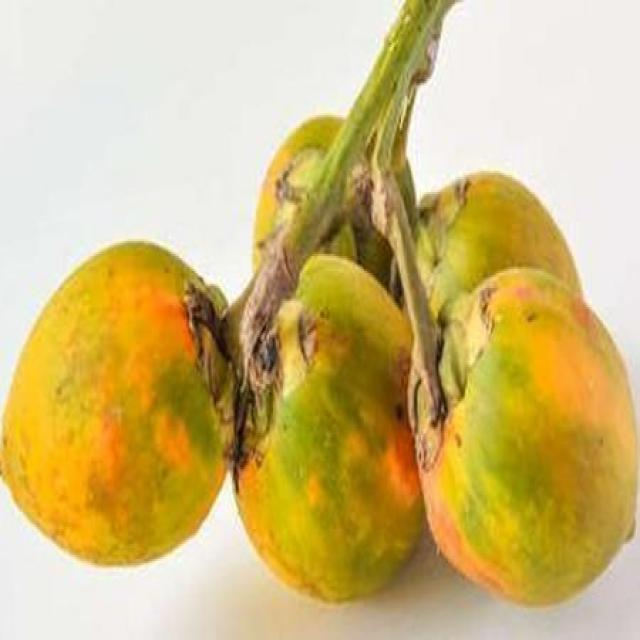good: (0, 241, 232, 570), (421, 267, 639, 610), (233, 254, 425, 608)
